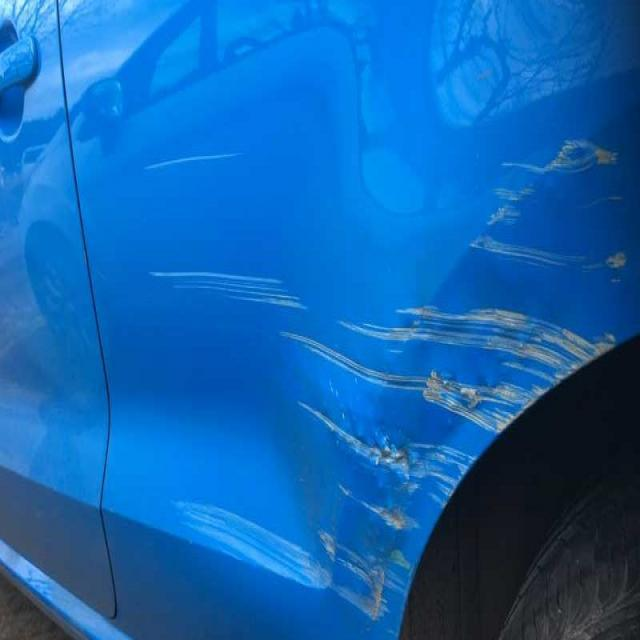scratch: (298, 126, 631, 624), (176, 492, 294, 572), (147, 252, 296, 308), (138, 140, 255, 190)
